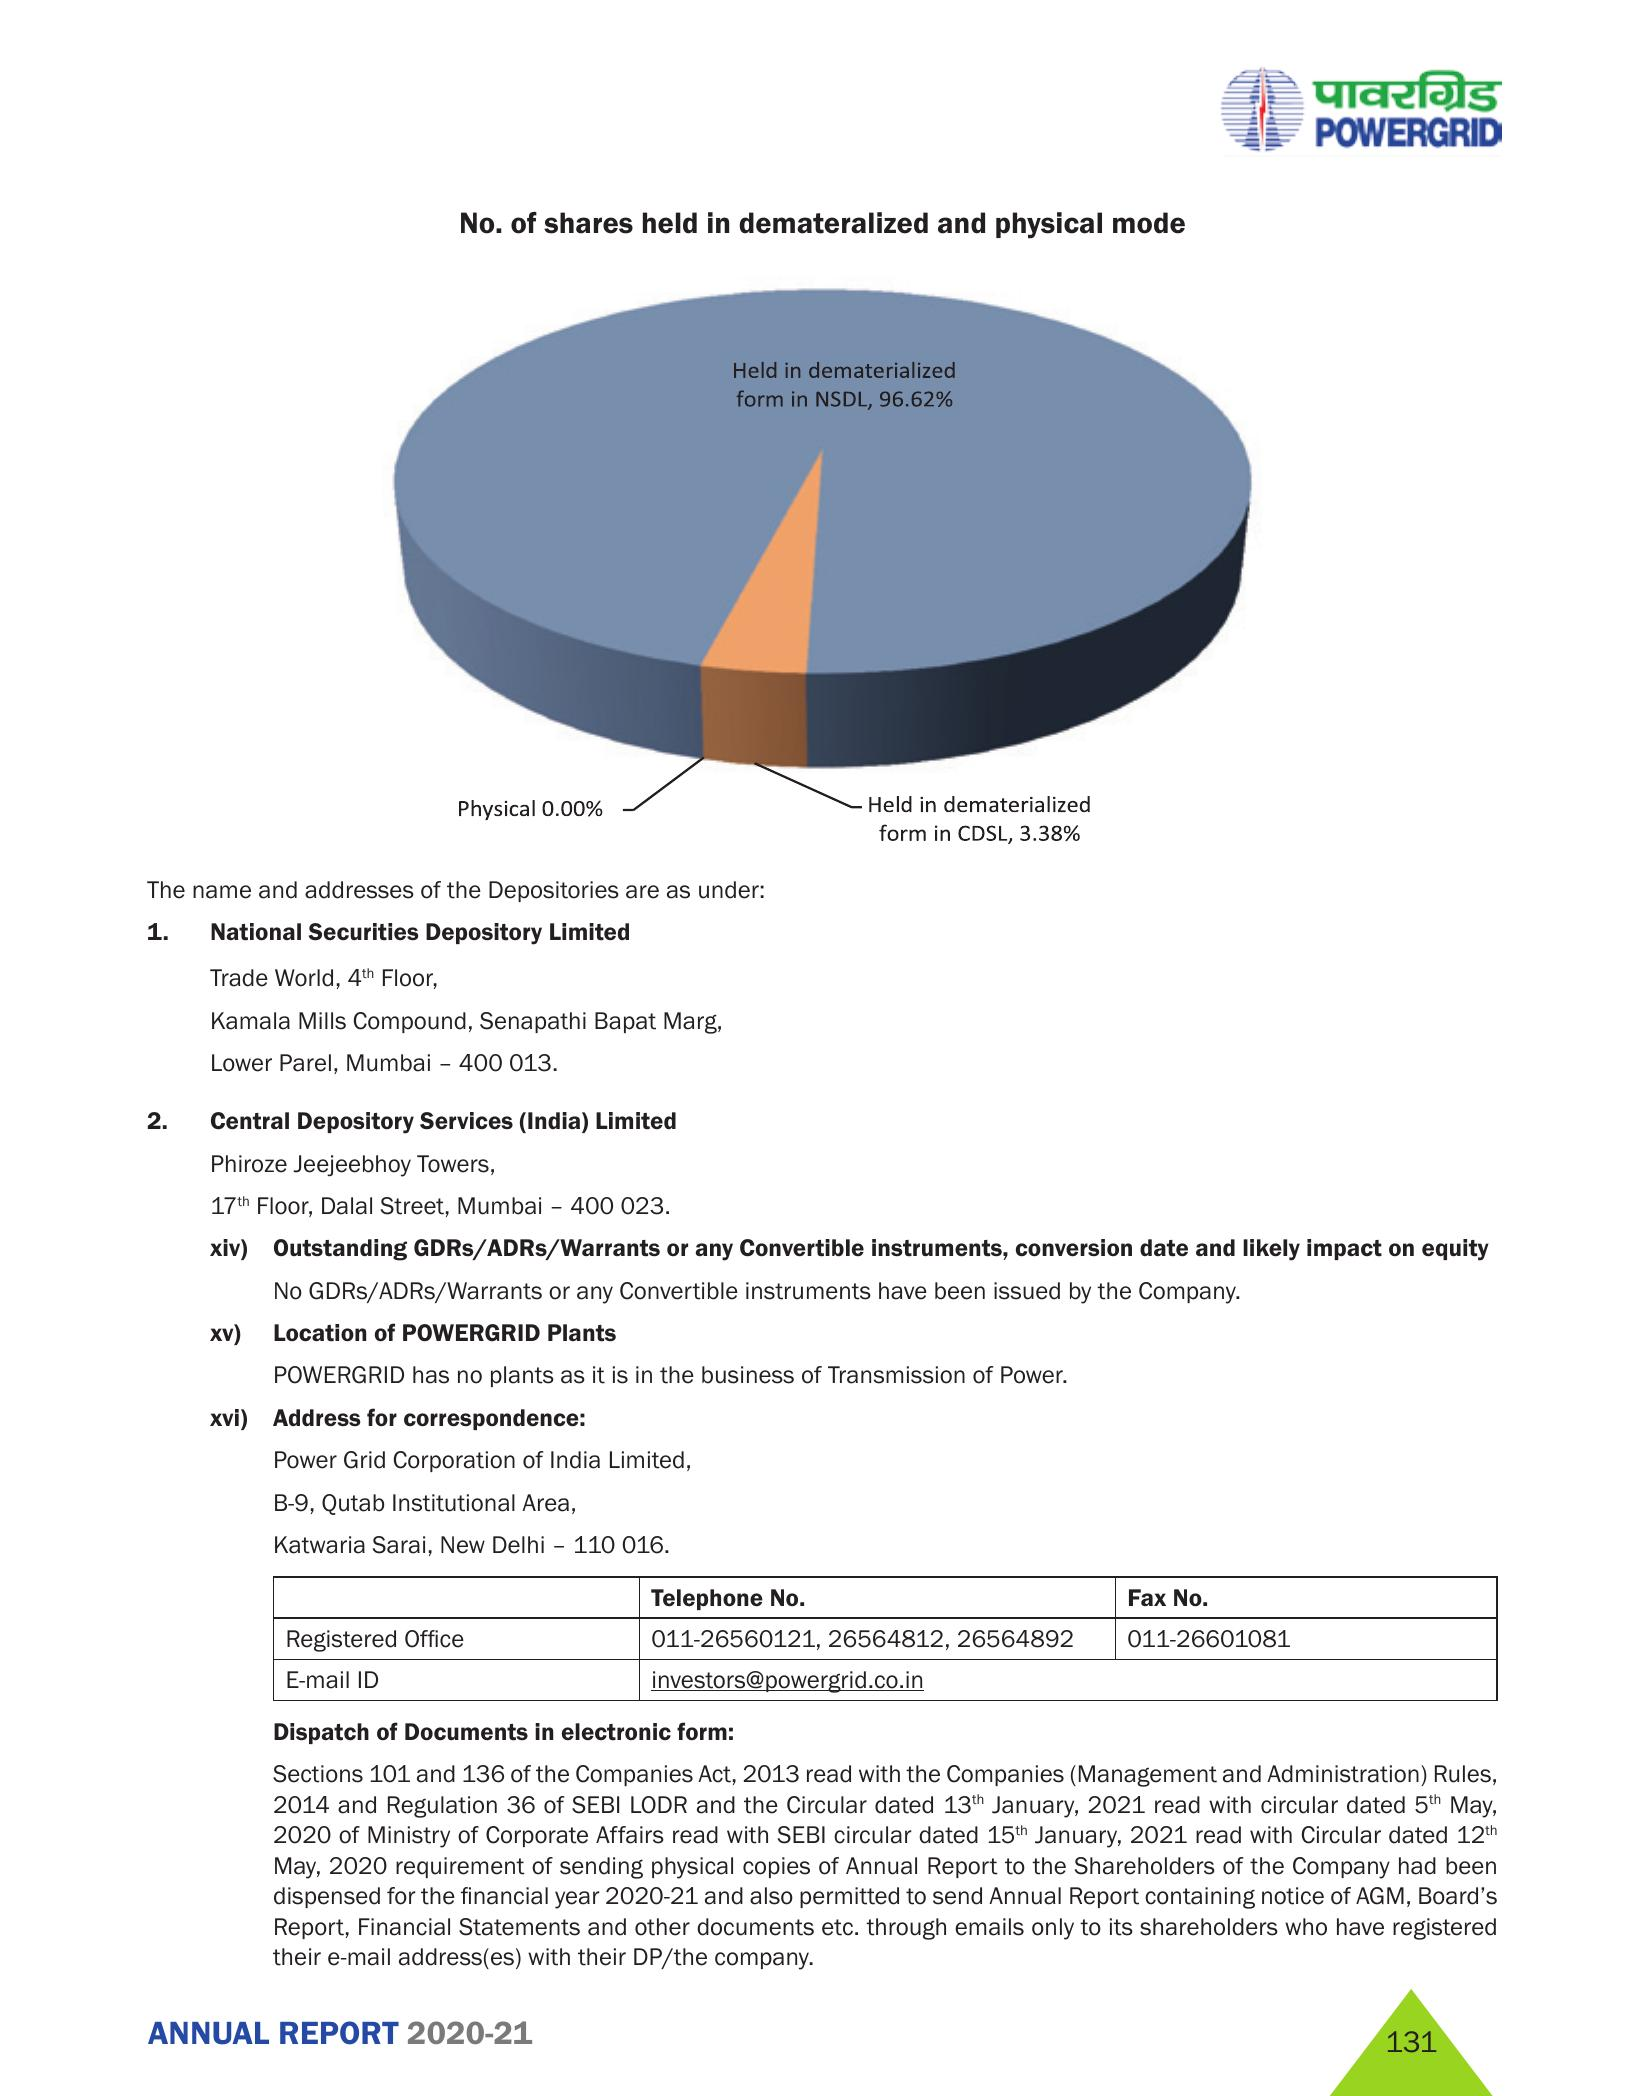Footer: (0, 1974, 1650, 2096)
Header: (0, 0, 1650, 172)
Image: (318, 172, 1332, 863)
Table: (219, 1569, 1521, 1708)
